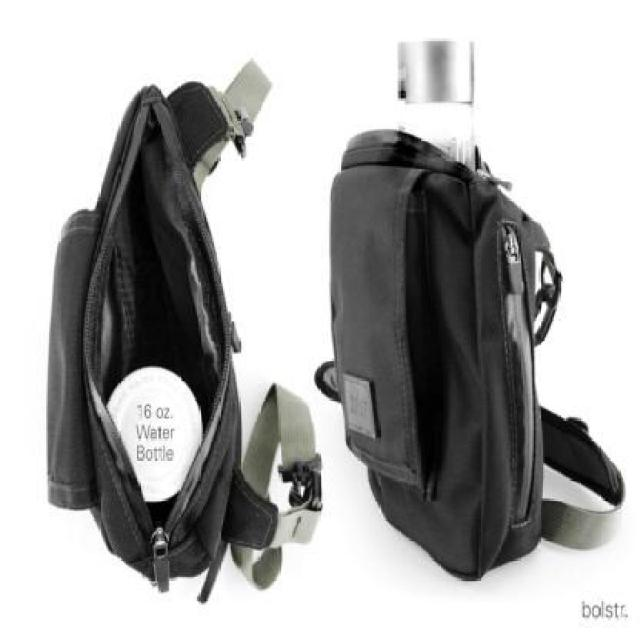backpack: (328, 32, 629, 592), (33, 46, 324, 603)
